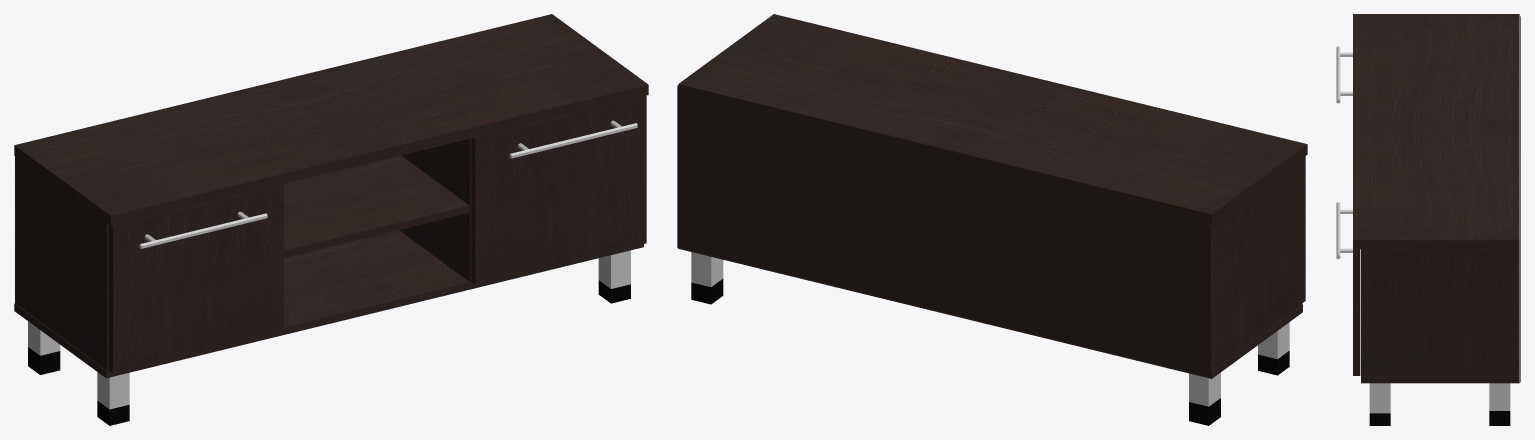
The model's file is by-tvstand.glb.
3 views of the same model, side by side, from view 1: azimuth 30°, elevation 25°; view 2: azimuth 150°, elevation 25°; view 3: azimuth 270°, elevation 25° (orthographic). The views are drawn at different scales.
Visible parts, largest first — view 1: Tv_Unit_Cube.007, Leftdoor_Cube.011, Right_door_Cube.010; view 2: Tv_Unit_Cube.007, Leftdoor_Cube.011; view 3: Tv_Unit_Cube.007, Right_door_Cube.010, Leftdoor_Cube.011.
Boxes of the visible parts, <box> form: Tv_Unit_Cube.007: <box>14,14,648,425</box>; Leftdoor_Cube.011: <box>108,184,283,373</box>; Right_door_Cube.010: <box>471,96,646,284</box>; Tv_Unit_Cube.007: <box>677,14,1307,425</box>; Leftdoor_Cube.011: <box>1302,156,1305,302</box>; Tv_Unit_Cube.007: <box>1353,14,1520,425</box>; Right_door_Cube.010: <box>1336,202,1360,375</box>; Leftdoor_Cube.011: <box>1336,46,1352,103</box>.
Bounding box in the file's own units: 1.35 × 0.526 × 0.465.
3 materials, 1 textured.
